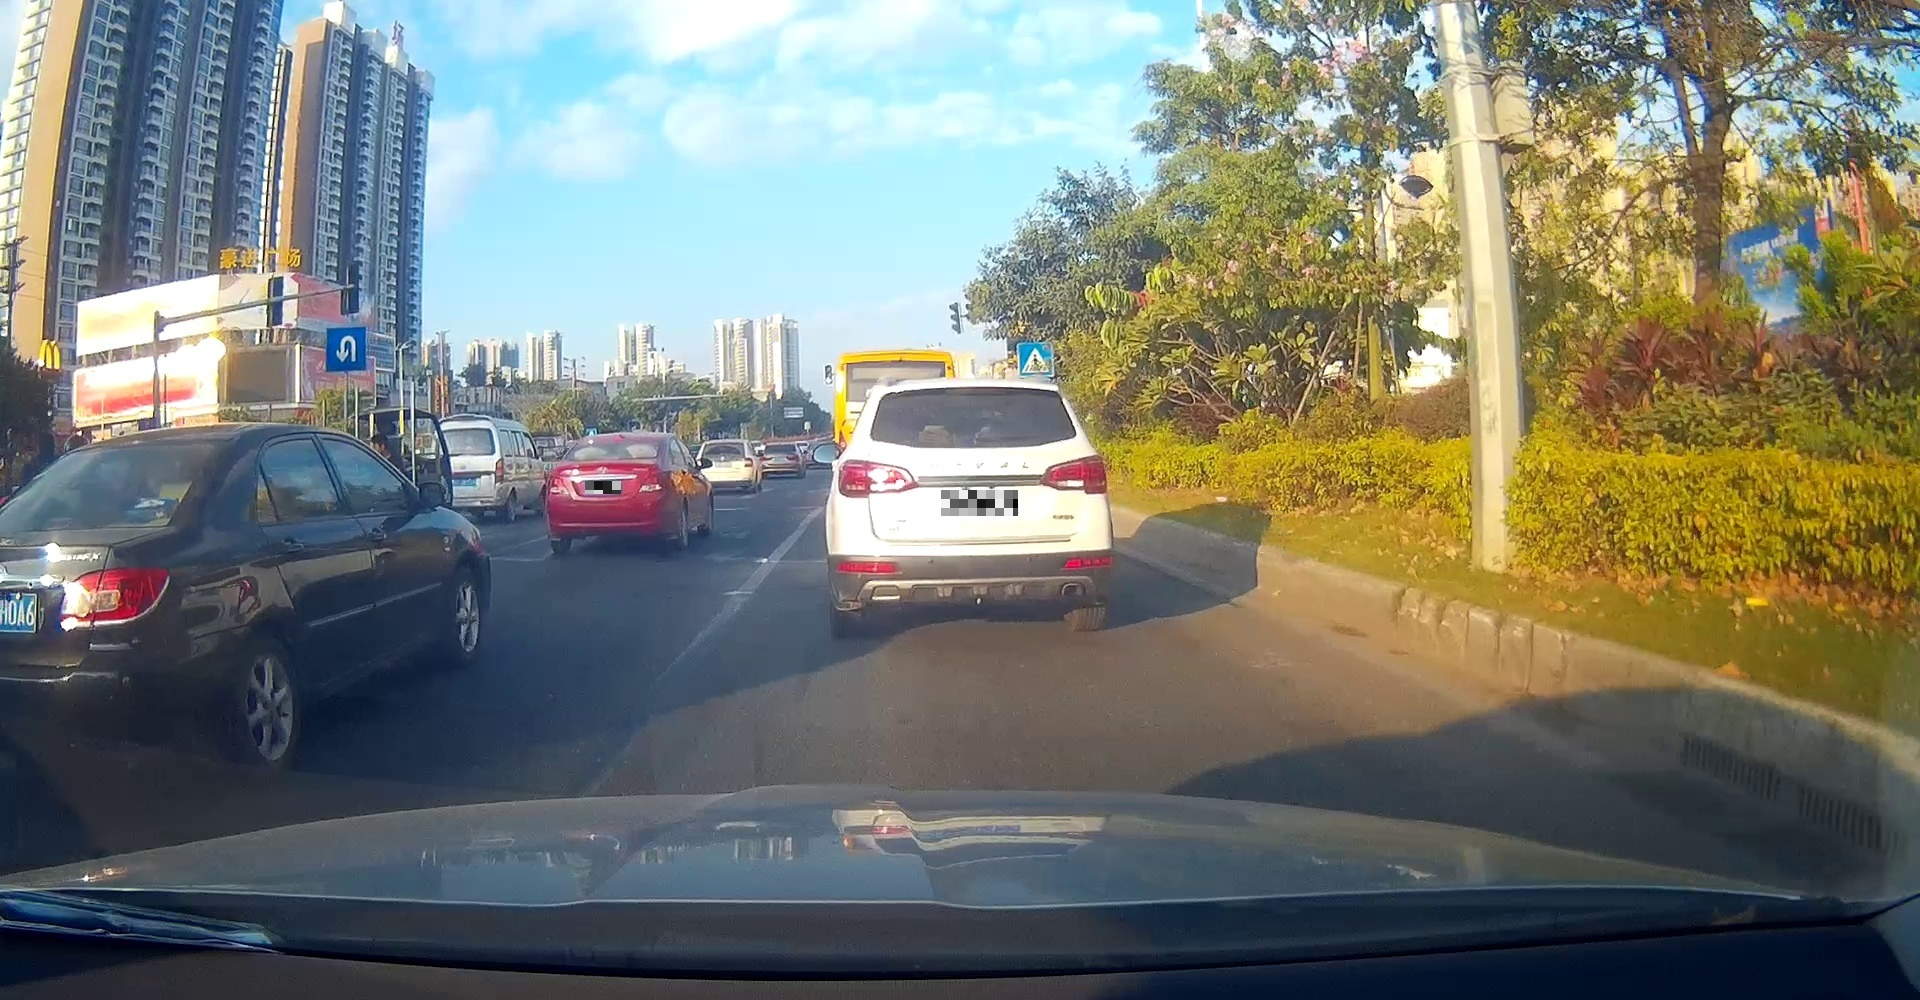L_light: (838, 459, 919, 499), (546, 475, 570, 496)
R_light: (1039, 454, 1107, 495), (636, 470, 674, 494)
T_light: (947, 388, 1010, 395), (599, 456, 618, 459)
day-no: (825, 378, 1114, 637), (545, 431, 677, 553)
plate_1: (585, 481, 621, 494)
plate_2: (941, 490, 1018, 516)
